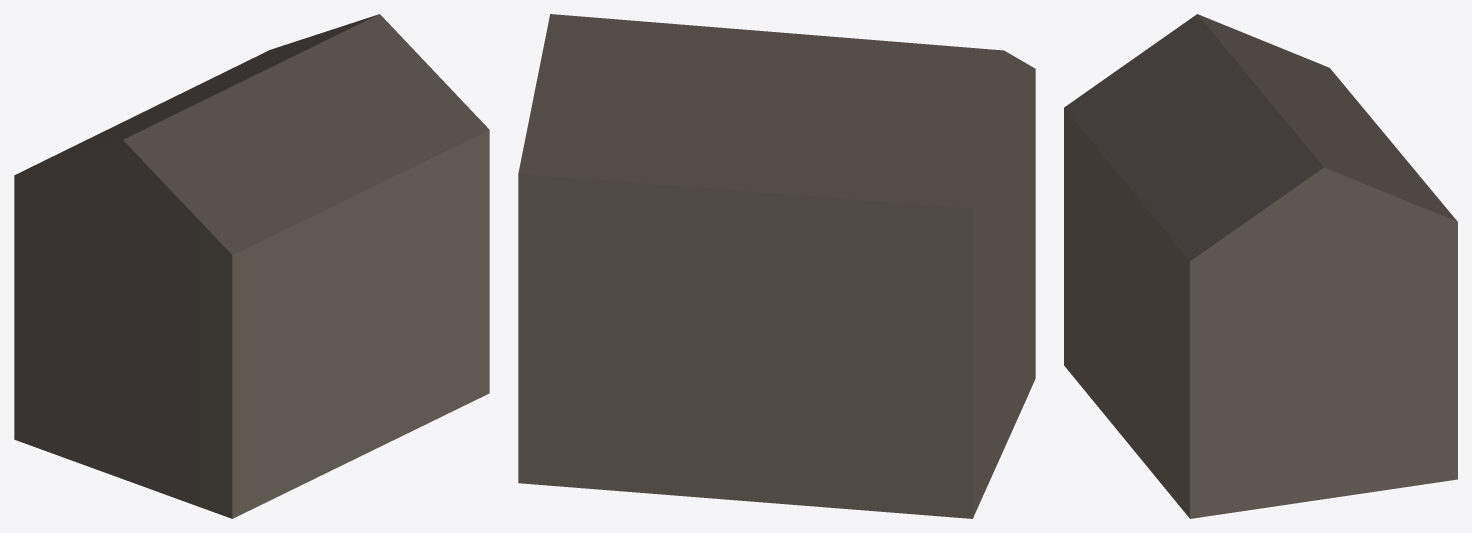
3 views of the same model, side by side, from view 1: azimuth 30°, elevation 25°; view 2: azimuth 150°, elevation 25°; view 3: azimuth 270°, elevation 25° (orthographic). The views are drawn at different scales.
Parts seen in each view (by area): view 1: HP-w1198645039; view 2: HP-w1198645039; view 3: HP-w1198645039.
Boxes of the visible parts, x1,y1,x2,y2 form: HP-w1198645039: [14, 14, 489, 518]; HP-w1198645039: [518, 14, 1035, 518]; HP-w1198645039: [1064, 14, 1457, 518].
Size of the model in its own units: 9.63 by 7.73 by 8.32.
